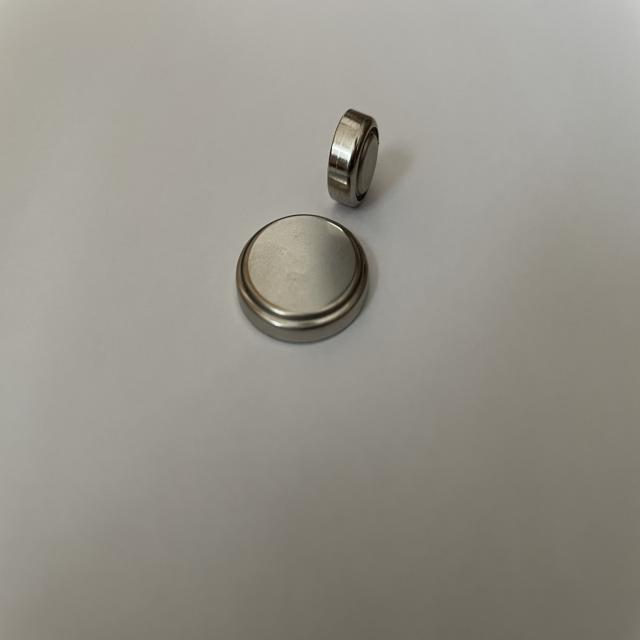COIN: (232, 212, 372, 344), (326, 104, 384, 209)
